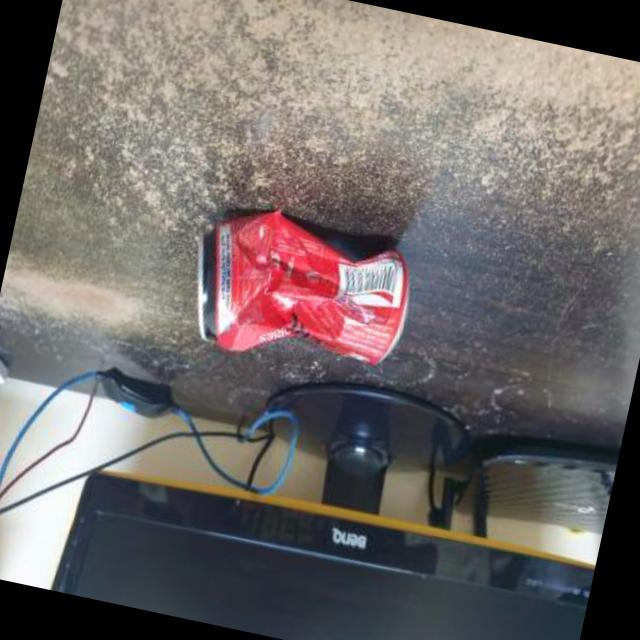metal: (199, 213, 409, 365)
